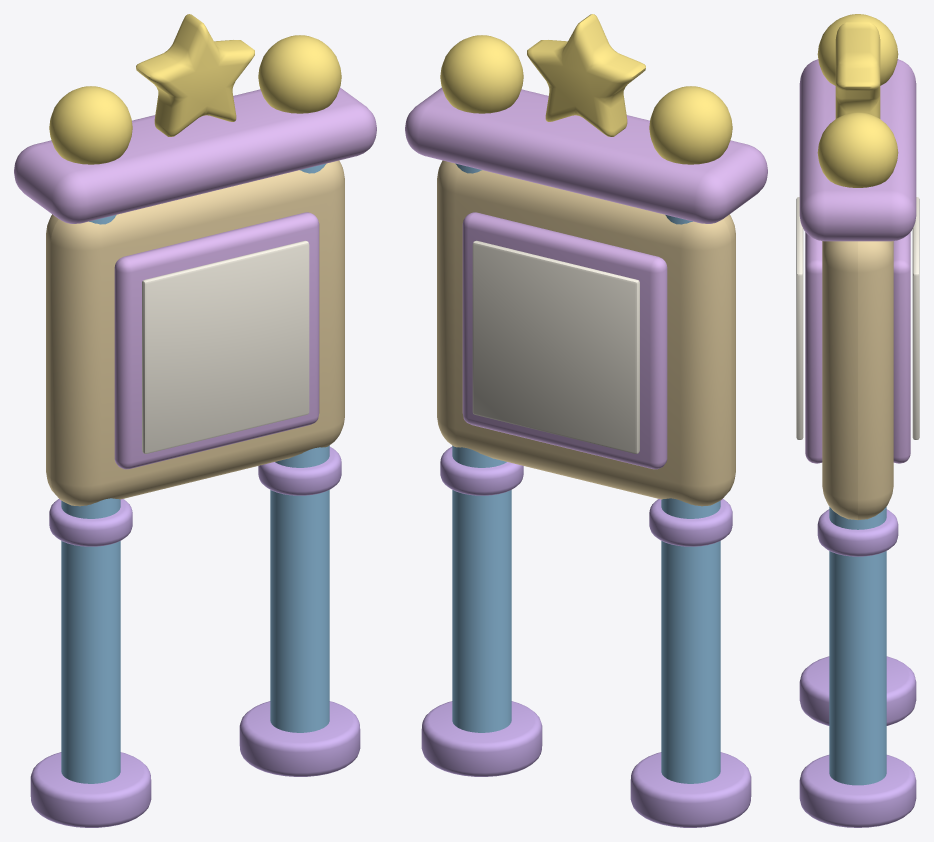
File: board-score.glb
3 renders of one model, left to right at view 1: azimuth 30°, elevation 25°; view 2: azimuth 150°, elevation 25°; view 3: azimuth 270°, elevation 25°, orthographic. The views are drawn at different scales.
Visible parts, largest first — view 1: Board; view 2: Board; view 3: Board.
Boxes of the visible parts, x1,y1,x2,y2 form: Board: [14, 14, 376, 827]; Board: [405, 14, 767, 827]; Board: [796, 14, 919, 827].
Bounding box in the file's own units: 0.4 × 0.9049 × 0.138.
